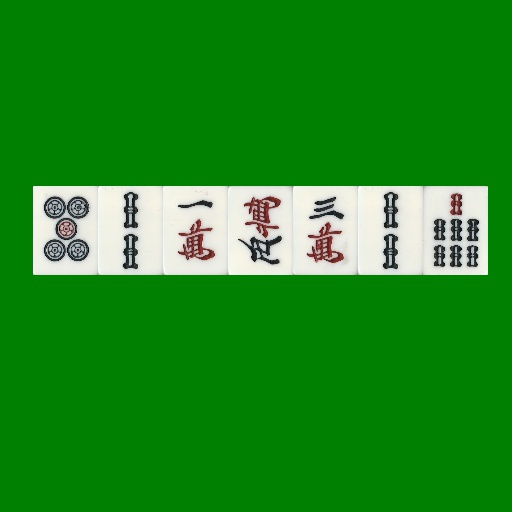1m: (163, 186, 228, 275)
2s: (98, 186, 163, 275), (358, 186, 423, 275)
3m: (293, 186, 358, 275)
5m: (228, 186, 293, 275)
5p: (33, 186, 98, 275)
7s: (423, 186, 488, 275)
